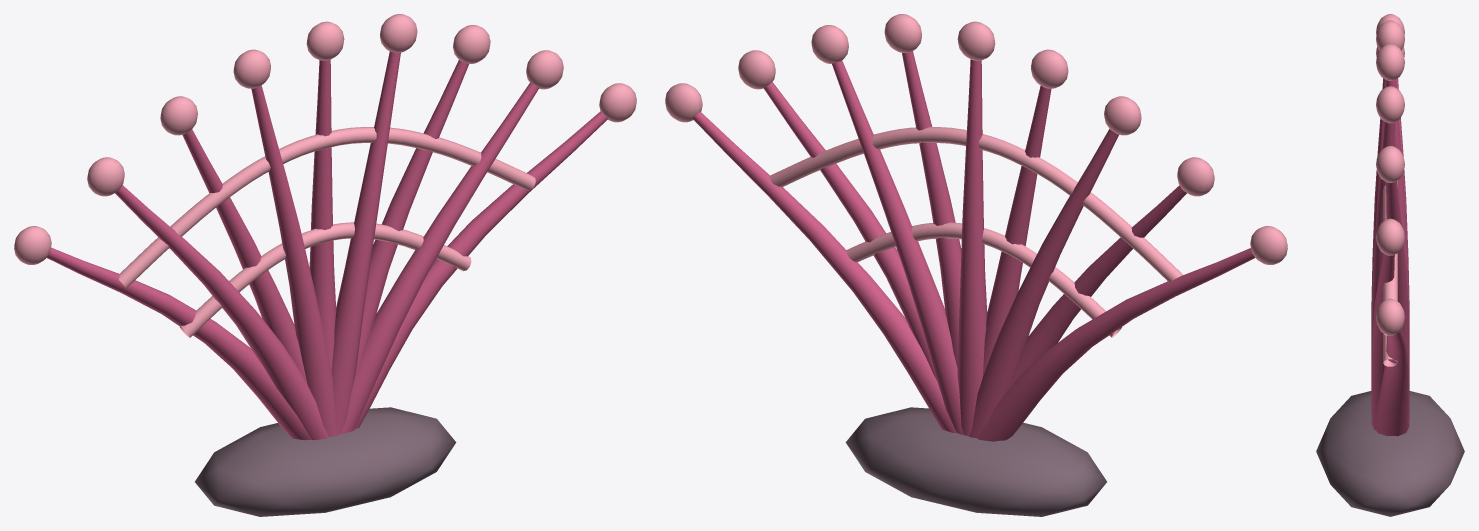
File: coral_fan.glb
3 views of the same model, side by side, from view 1: azimuth 30°, elevation 25°; view 2: azimuth 150°, elevation 25°; view 3: azimuth 270°, elevation 25° (orthographic). The views are drawn at different scales.
Parts seen in each view (by area): view 1: coral_fan_textured_mesh; view 2: coral_fan_textured_mesh; view 3: coral_fan_textured_mesh.
Boxes of the visible parts, x1,y1,x2,y2 form: coral_fan_textured_mesh: (14,14,636,516); coral_fan_textured_mesh: (665,14,1287,516); coral_fan_textured_mesh: (1316,14,1464,516).
Size of the model in its own units: 4.97 by 3.65 by 1.12.
1 material, 1 textured.
